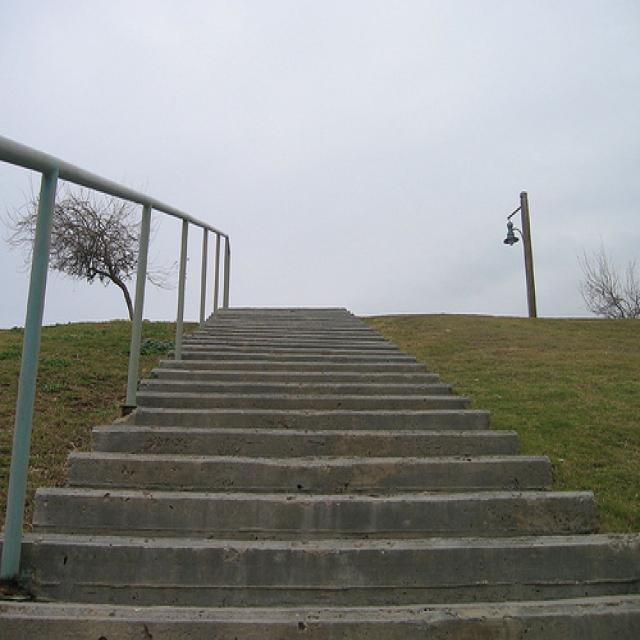stairs: (1, 304, 638, 636)
